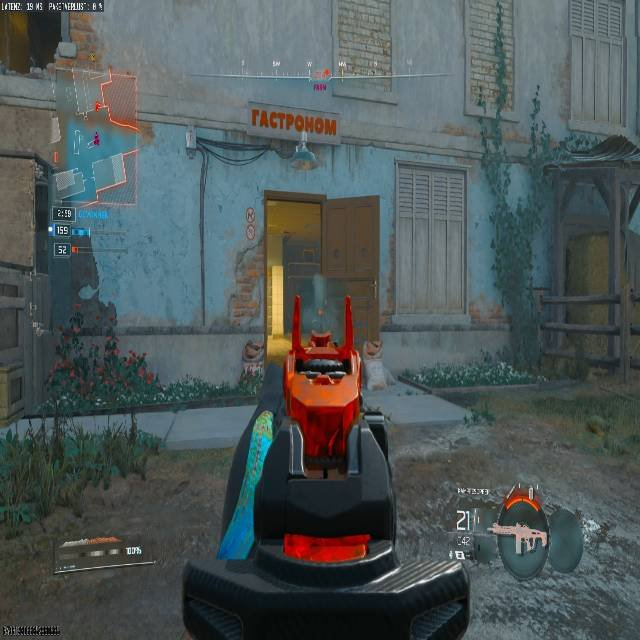player: (240, 339, 263, 387)
